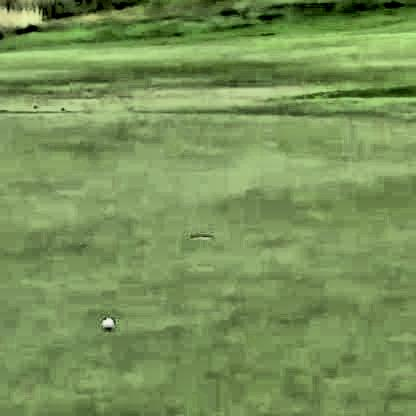golfball: (100, 316, 111, 327)
